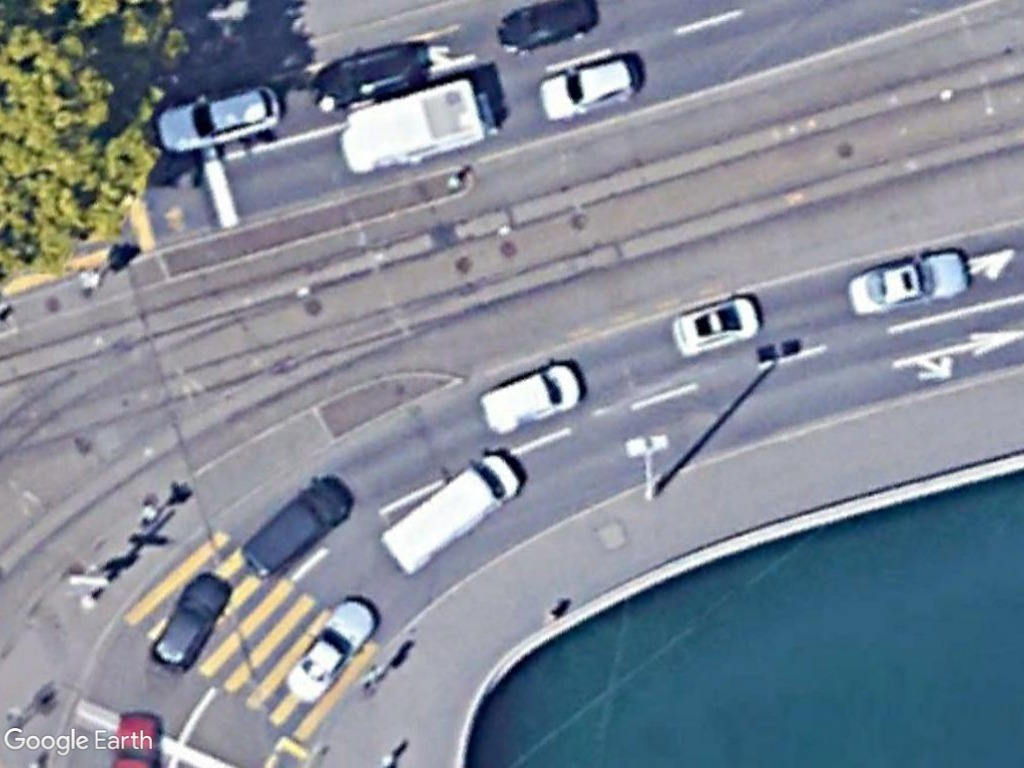car: (281, 596, 380, 707), (155, 80, 279, 161), (846, 249, 969, 321), (148, 570, 232, 675), (535, 53, 641, 126), (667, 294, 760, 359)
van: (376, 448, 523, 577), (240, 473, 356, 586), (474, 358, 588, 439)
